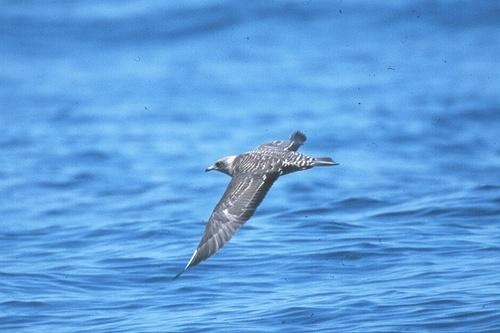bird: (171, 130, 341, 277)
